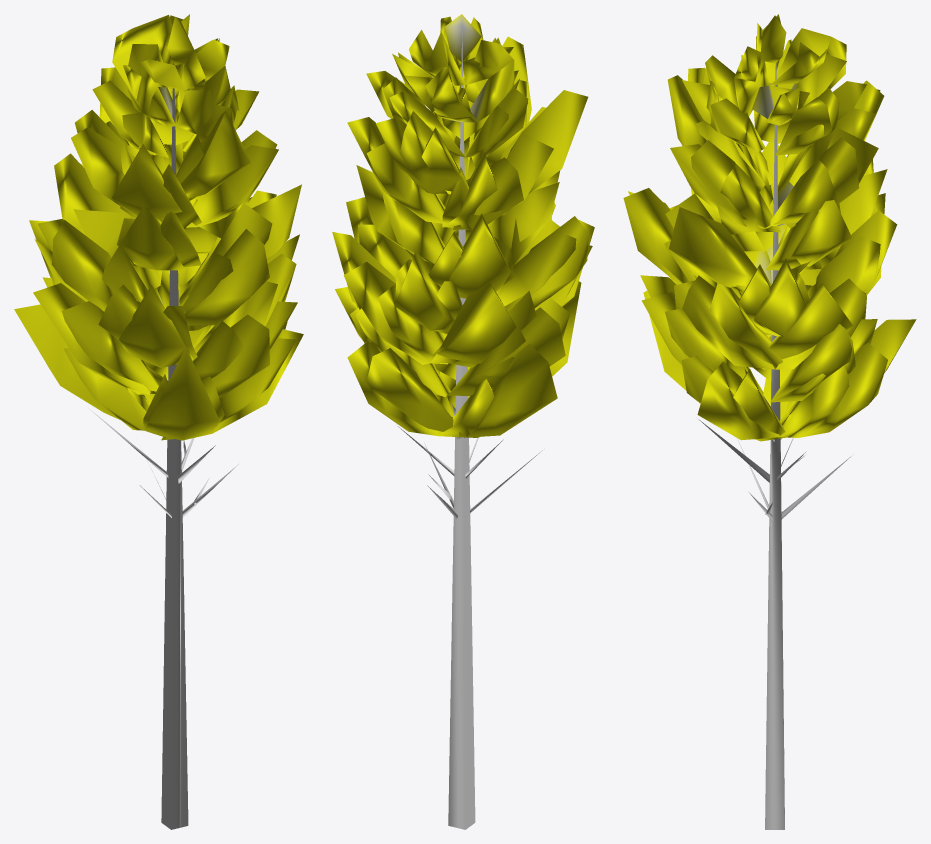
File: birch_lod1.gltf
3 views of the same model, side by side, from view 1: azimuth 30°, elevation 25°; view 2: azimuth 150°, elevation 25°; view 3: azimuth 270°, elevation 25° (orthographic).
Visible parts, largest first — view 1: tree; view 2: tree; view 3: tree.
Part boxes in pixels (<box>): tree: <box>14,14,303,829</box>; tree: <box>332,14,594,829</box>; tree: <box>623,14,916,829</box>.
Bounding box in the file's own units: 5.47 × 18 × 5.9.
